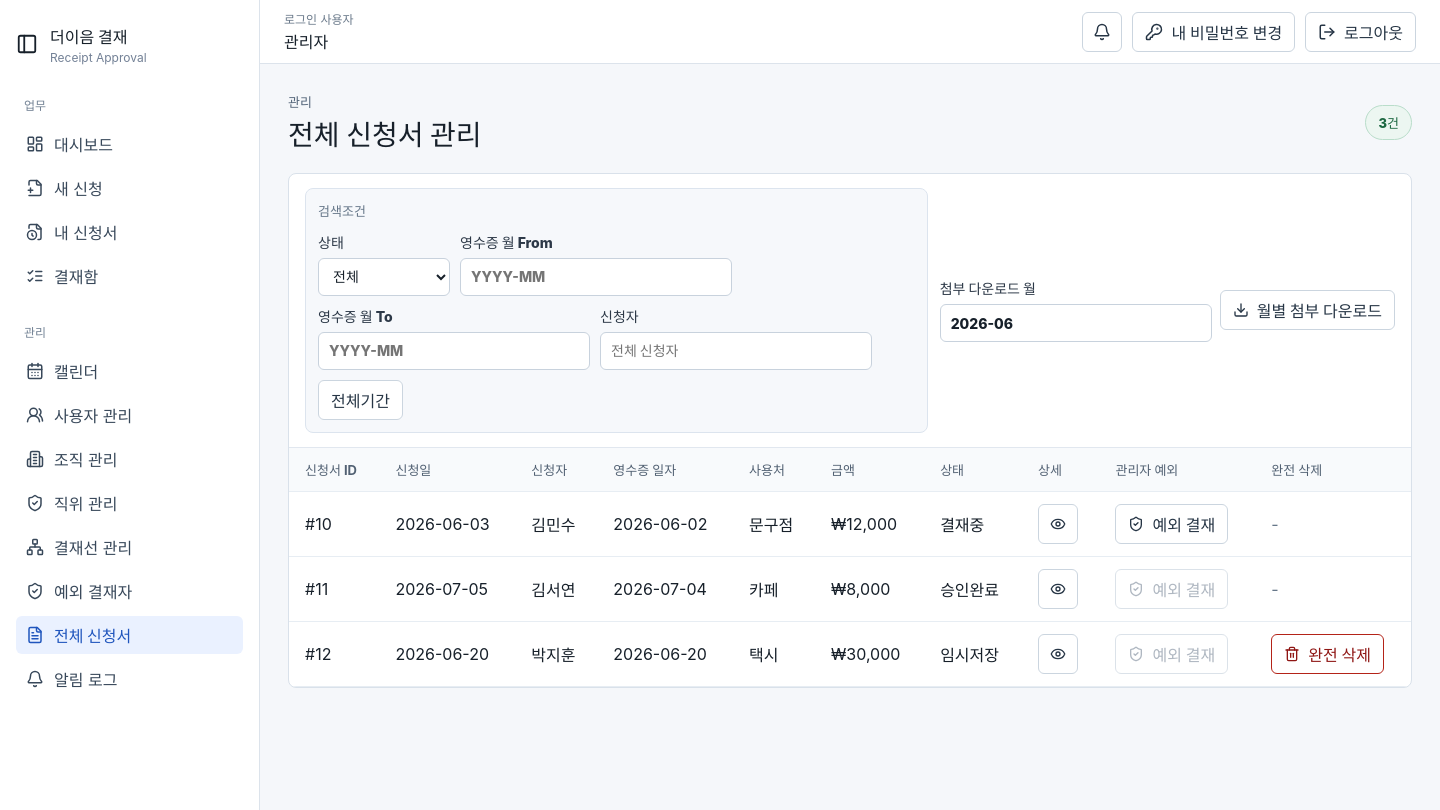
AdminApplicationsPage › 전체 신청서를 상태별로 필터링한다
Expected: the heading "전체 신청서 관리" is shown, [288,119,482,153]
Expected: the text "문구점" is shown, [733,491,815,556]
Select "결재중" in the dropdown named "상태 필터": (384, 277) [318,258,450,296]
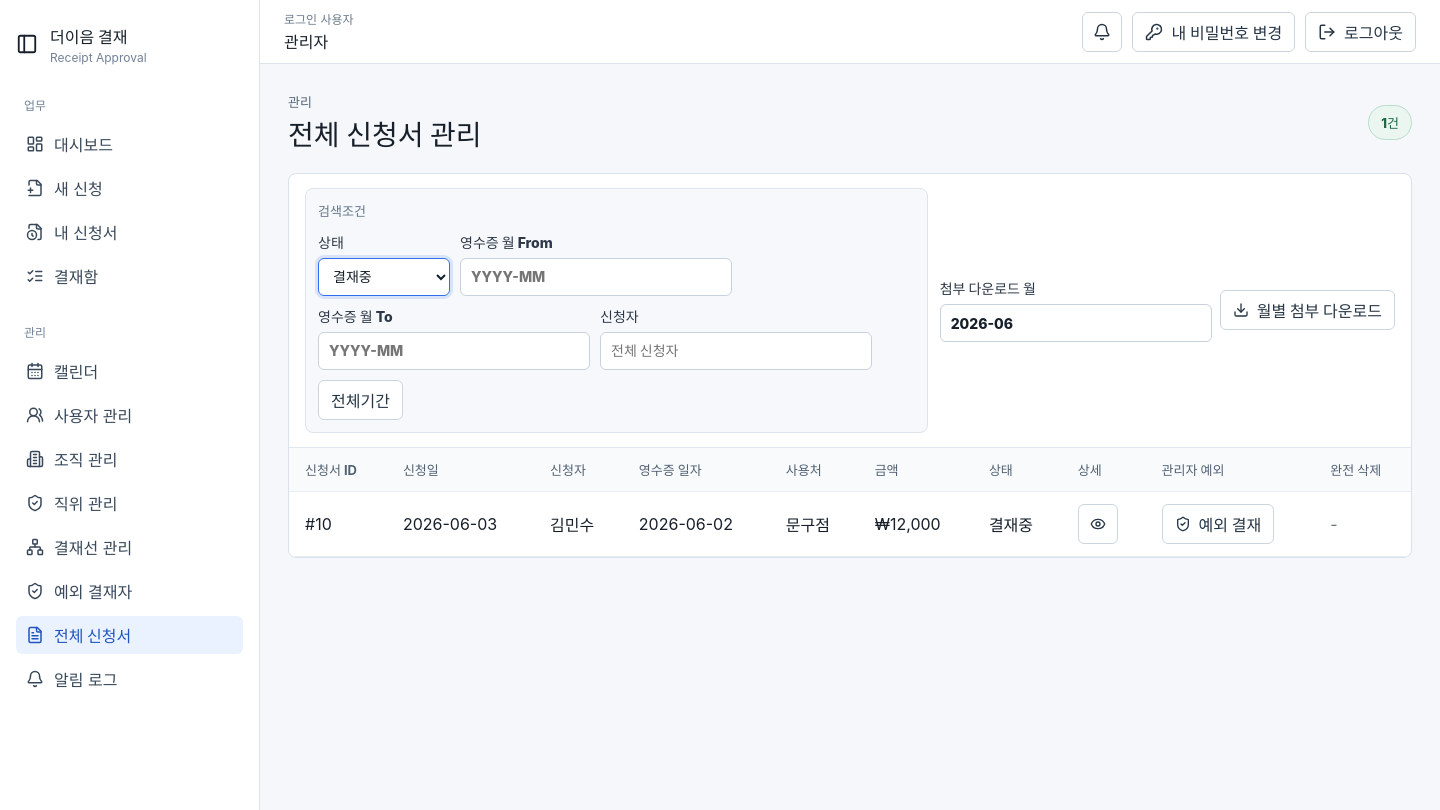
Expected: the text "문구점" is shown, [770,491,859,556]
Expected: the text "카페" is gone
